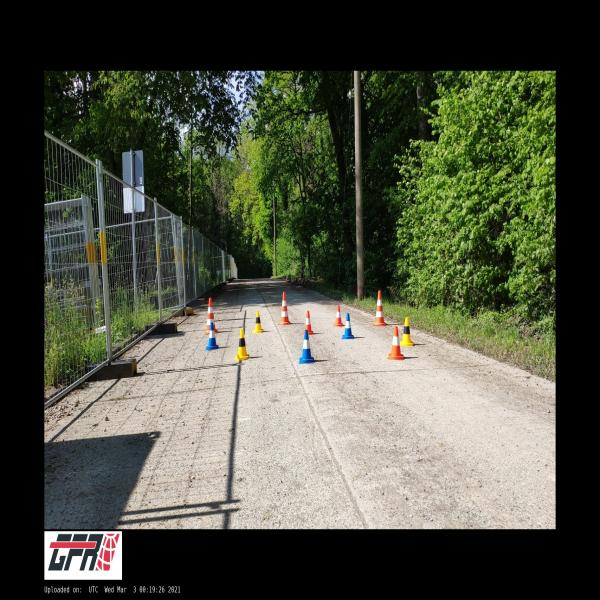blue_cone: (300, 330, 314, 364), (206, 323, 219, 350), (342, 314, 354, 340)
large_orange_cone: (205, 298, 218, 334), (373, 291, 386, 326), (278, 292, 291, 325)
orange_cone: (388, 326, 404, 360), (302, 310, 314, 334), (334, 306, 343, 326)
yellow_cone: (235, 328, 249, 361), (399, 318, 414, 346), (253, 310, 264, 333)
